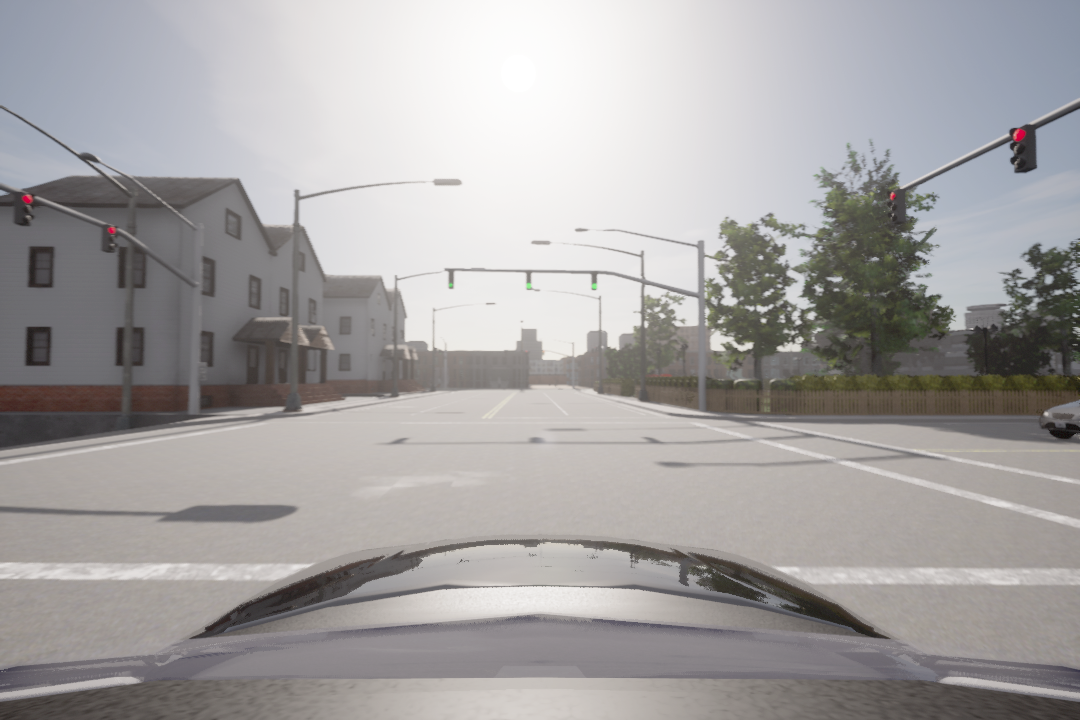TrafficLight: (1005, 124, 1040, 173), (886, 188, 912, 227), (14, 190, 34, 229), (99, 223, 120, 259), (586, 271, 601, 293), (444, 266, 457, 291), (524, 270, 535, 290)
